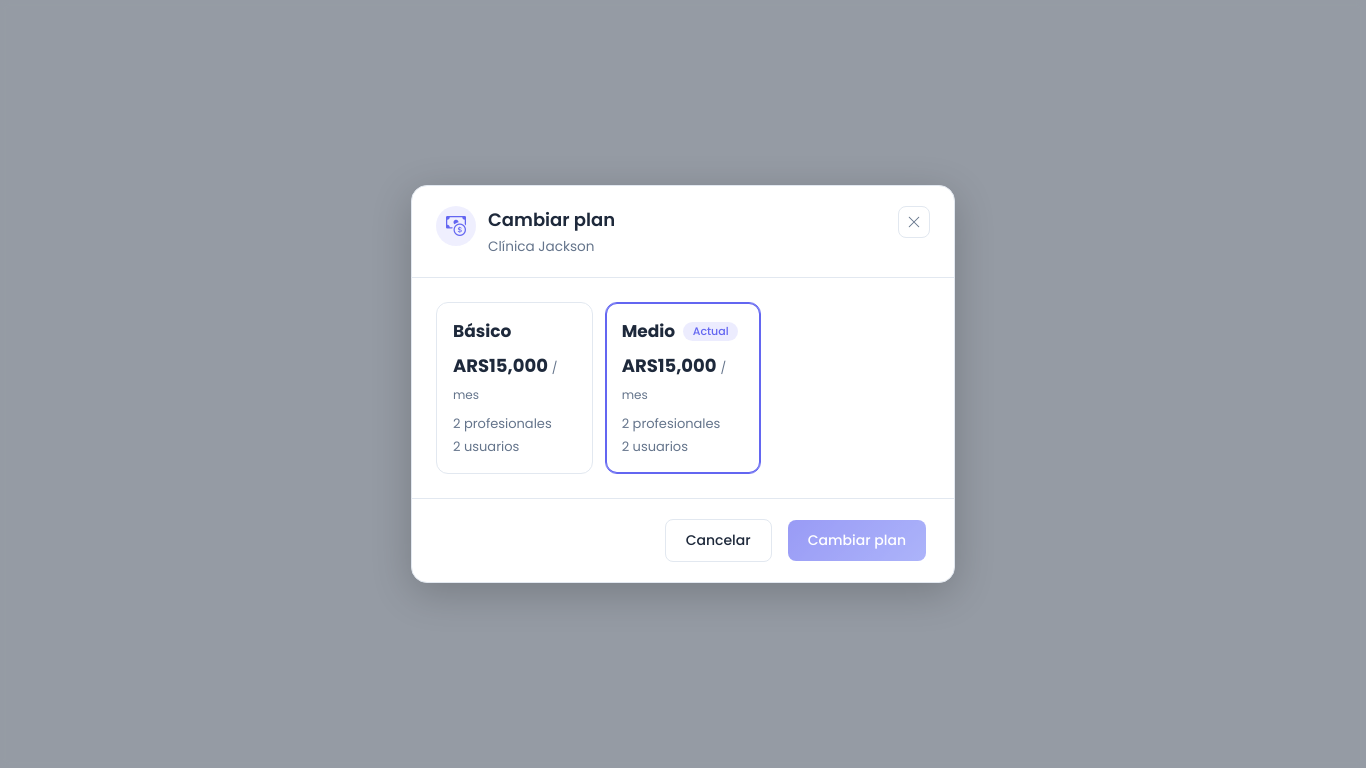
AdminOrganizationPlanDialogComponent › elegir un plan inferior al actual muestra el aviso de baja agendada
Click the button with test id "admin-plan-option-BASICO" at (514, 388), box 436,302 -> 593,474
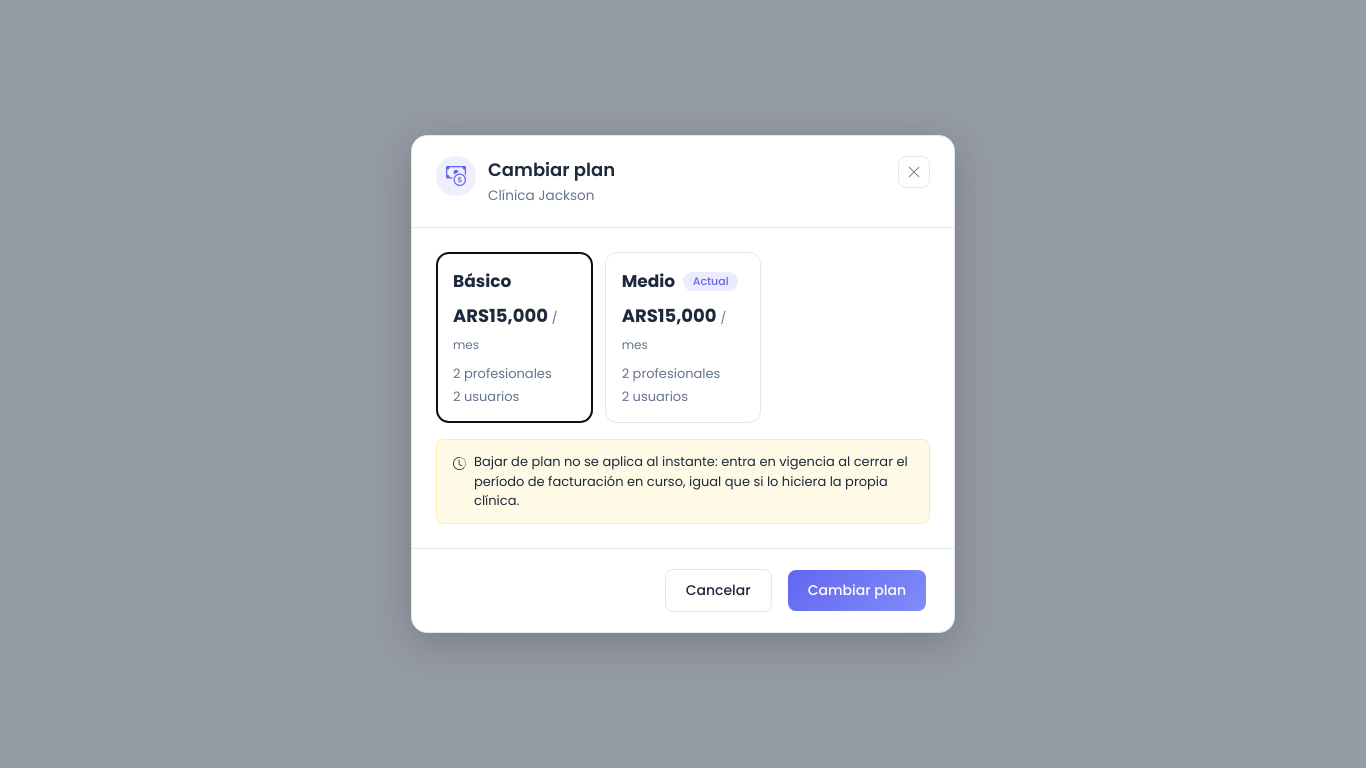
Expected: the element with test id "admin-plan-aviso-baja" is shown, 436,439 -> 930,524
